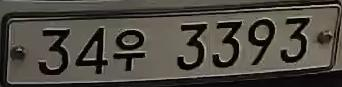3: (35, 25, 73, 81), (173, 20, 210, 73), (278, 15, 313, 65), (210, 19, 242, 68)
4: (73, 24, 111, 78)
9: (245, 17, 277, 67)
우: (110, 22, 150, 77)
